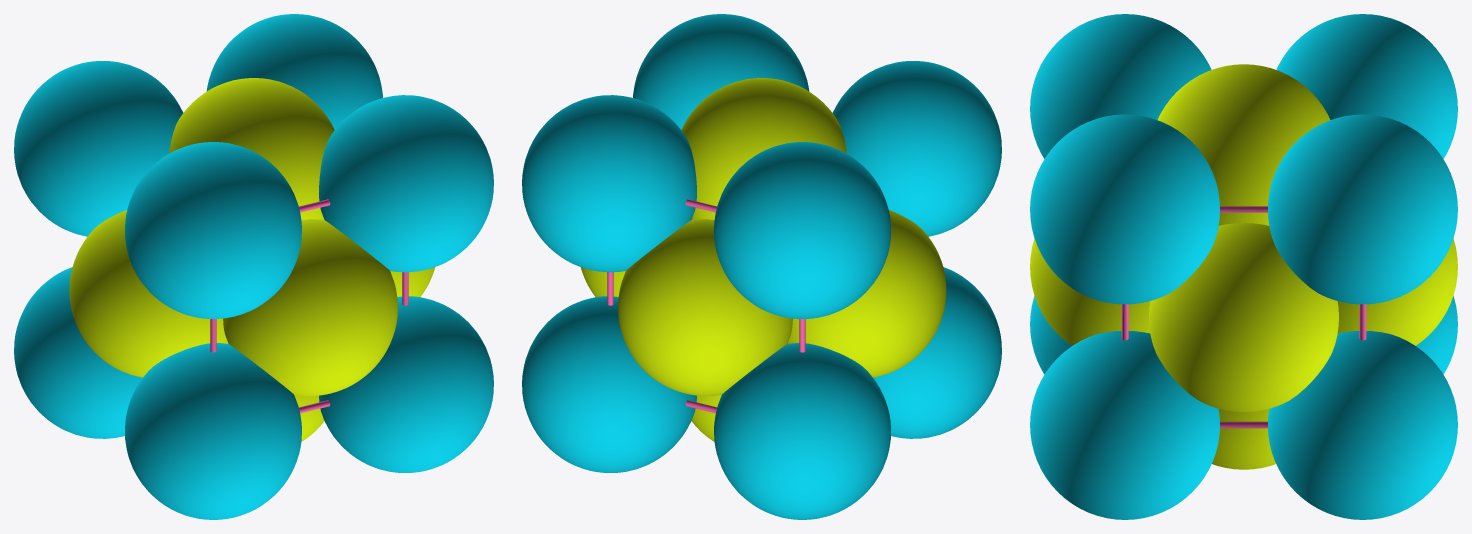
The model's file is res_10284.glb.
The picture shows the model from 3 angles, left to right: view 1: azimuth 30°, elevation 25°; view 2: azimuth 150°, elevation 25°; view 3: azimuth 270°, elevation 25°; orthographic projection. The views are drawn at different scales.
Parts seen in each view (by area): view 1: imagetostl_mesh24, imagetostl_mesh34, imagetostl_mesh22, imagetostl_mesh20, imagetostl_mesh32, imagetostl_mesh38, imagetostl_mesh36, imagetostl_mesh26, imagetostl_mesh40, imagetostl_mesh28, imagetostl_mesh25, imagetostl_mesh35 (+10 smaller); view 2: imagetostl_mesh20, imagetostl_mesh26, imagetostl_mesh28, imagetostl_mesh24, imagetostl_mesh30, imagetostl_mesh46, imagetostl_mesh36, imagetostl_mesh34, imagetostl_mesh40, imagetostl_mesh22, imagetostl_mesh21, imagetostl_mesh27 (+10 smaller); view 3: imagetostl_mesh28, imagetostl_mesh22, imagetostl_mesh32, imagetostl_mesh30, imagetostl_mesh42, imagetostl_mesh20, imagetostl_mesh24, imagetostl_mesh40, imagetostl_mesh29, imagetostl_mesh23, imagetostl_mesh33, imagetostl_mesh31 (+12 smaller).
Part boxes in pixels (x1,y1,x2,y2): imagetostl_mesh24: [125, 142, 301, 318]; imagetostl_mesh34: [125, 343, 301, 519]; imagetostl_mesh22: [319, 95, 493, 272]; imagetostl_mesh20: [14, 61, 183, 236]; imagetostl_mesh32: [319, 296, 493, 472]; imagetostl_mesh38: [223, 219, 397, 395]; imagetostl_mesh36: [69, 210, 228, 377]; imagetostl_mesh26: [14, 267, 142, 438]; imagetostl_mesh40: [169, 78, 334, 220]; imagetostl_mesh28: [206, 14, 382, 129]; imagetostl_mesh25: [125, 142, 301, 318]; imagetostl_mesh35: [125, 343, 301, 519]; imagetostl_mesh20: [714, 142, 890, 318]; imagetostl_mesh26: [714, 343, 890, 519]; imagetostl_mesh28: [522, 95, 696, 272]; imagetostl_mesh24: [832, 61, 1001, 236]; imagetostl_mesh30: [522, 296, 696, 472]; imagetostl_mesh46: [618, 219, 792, 395]; imagetostl_mesh36: [787, 210, 946, 377]; imagetostl_mesh34: [873, 267, 1001, 438]; imagetostl_mesh40: [681, 78, 846, 220]; imagetostl_mesh22: [633, 14, 809, 129]; imagetostl_mesh21: [714, 142, 890, 318]; imagetostl_mesh27: [714, 343, 890, 519]; imagetostl_mesh28: [1268, 114, 1457, 304]; imagetostl_mesh22: [1030, 114, 1219, 304]; imagetostl_mesh32: [1030, 331, 1219, 519]; imagetostl_mesh30: [1268, 331, 1457, 519]; imagetostl_mesh42: [1149, 223, 1338, 412]; imagetostl_mesh20: [1276, 14, 1457, 158]; imagetostl_mesh24: [1030, 14, 1211, 158]; imagetostl_mesh40: [1157, 64, 1330, 225]; imagetostl_mesh29: [1268, 115, 1457, 303]; imagetostl_mesh23: [1030, 114, 1219, 304]; imagetostl_mesh33: [1030, 331, 1219, 519]; imagetostl_mesh31: [1268, 331, 1457, 519].
Bounding box in the file's own units: 1.8 × 1.8 × 1.8.
